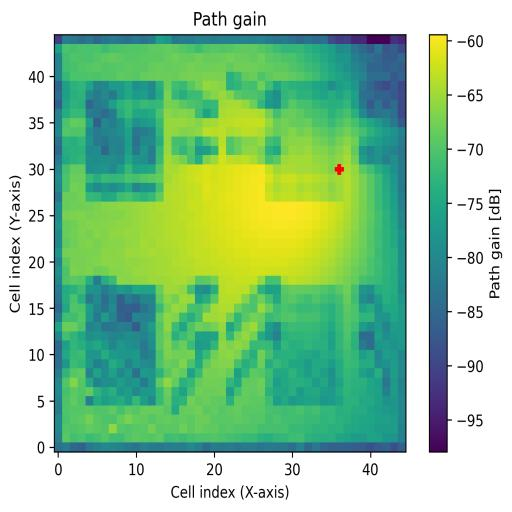Concrete: (265, 82, 344, 202)
Glass: (86, 80, 164, 202)
Metal: (266, 284, 344, 405)
Wood: (86, 286, 156, 404)
